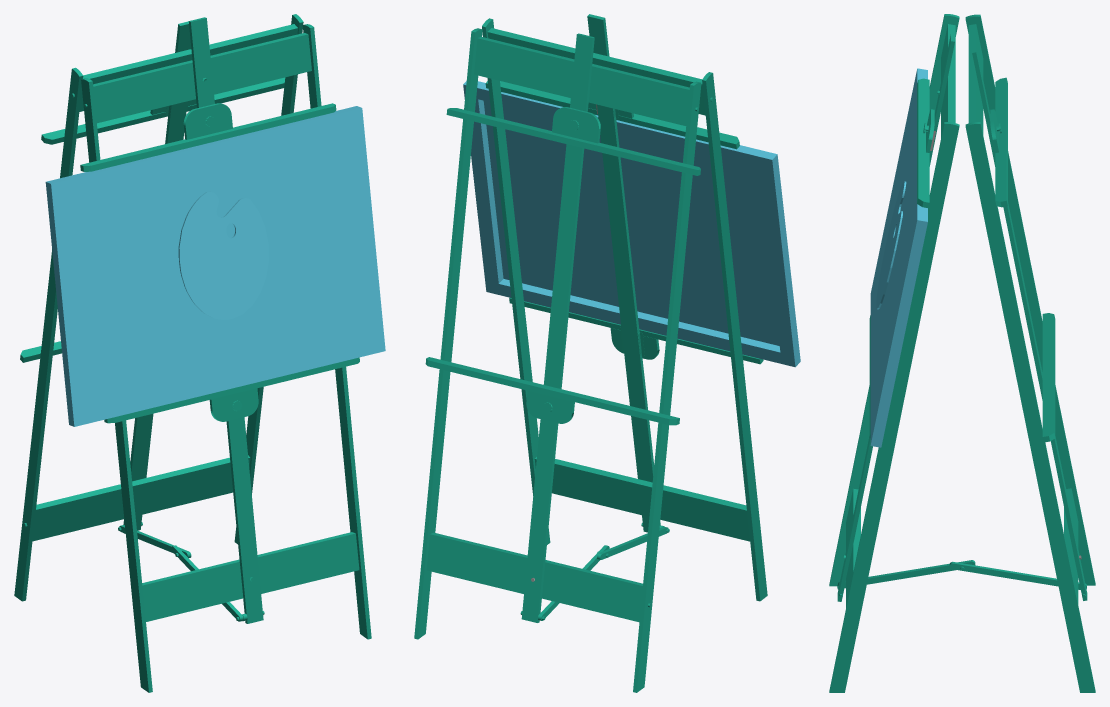
File: easel.obj
The picture shows the model from 3 angles, left to right: view 1: azimuth 30°, elevation 25°; view 2: azimuth 150°, elevation 25°; view 3: azimuth 270°, elevation 25°; orthographic projection.
Parts seen in each view (by area): view 1: tableau, Shape021, peinture; view 2: Shape021, tableau; view 3: Shape021, tableau, peinture.
Boxes of the visible parts, x1,y1,x2,y2 form: tableau: (45,106,385,426); Shape021: (14,14,371,692); peinture: (178,191,268,319); Shape021: (414,14,767,692); tableau: (463,81,800,367); Shape021: (829,14,1095,692); tableau: (870,68,927,447); peinture: (876,181,906,309).
Bounding box in the file's own units: 4989 × 9210 × 3699.
